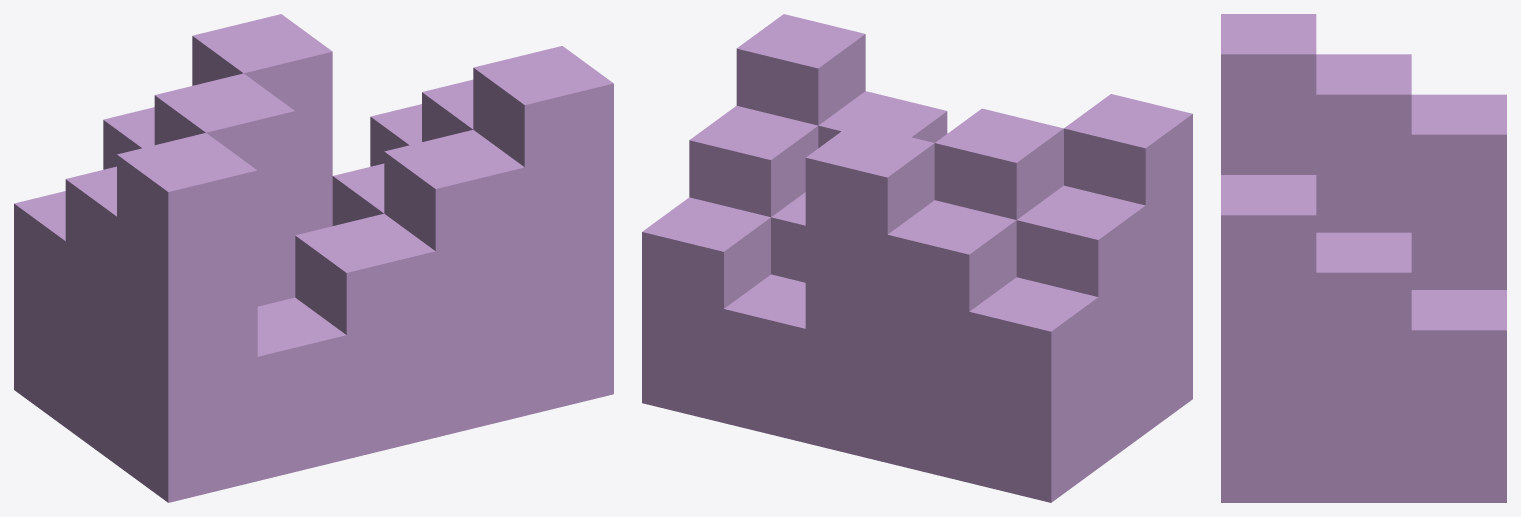
Rendered from alien-biosphere-column-bed-c0545357__22743.glb.
3 renders of one model, left to right at view 1: azimuth 30°, elevation 25°; view 2: azimuth 150°, elevation 25°; view 3: azimuth 270°, elevation 25°, orthographic. The views are drawn at different scales.
Parts seen in each view (by area): view 1: column-bed; view 2: column-bed; view 3: column-bed.
Boxes of the visible parts, x1,y1,x2,y2 form: column-bed: (14, 14, 613, 502); column-bed: (642, 14, 1192, 502); column-bed: (1221, 14, 1506, 502).
Size of the model in its own units: 3 by 2 by 1.8.
